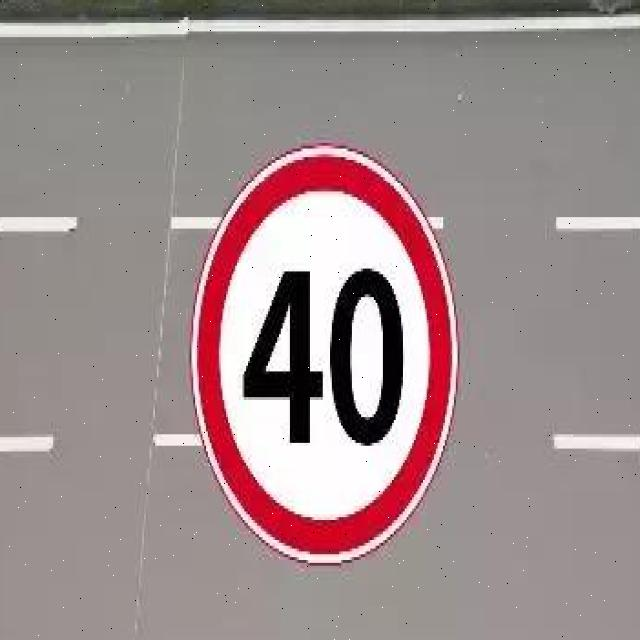speed limit 40: (192, 144, 460, 564)
